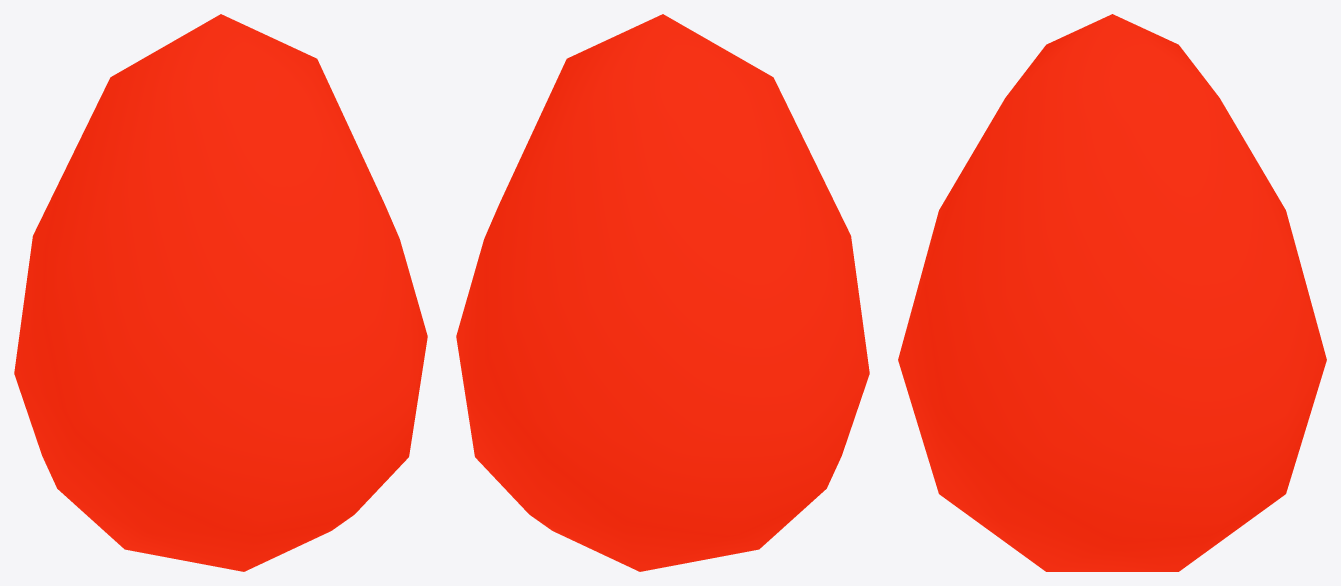
Rendered from flame.glb.
3 views of the same model, side by side, from view 1: azimuth 30°, elevation 25°; view 2: azimuth 150°, elevation 25°; view 3: azimuth 270°, elevation 25° (orthographic).
Visible parts, largest first — view 1: Icosphere; view 2: Icosphere; view 3: Icosphere.
Part boxes in pixels (box(x1,y1,x2,y2)): Icosphere: box(14, 14, 427, 571); Icosphere: box(456, 14, 869, 571); Icosphere: box(898, 14, 1326, 571).
Bounding box in the file's own units: 1.9 × 2.82 × 2.
